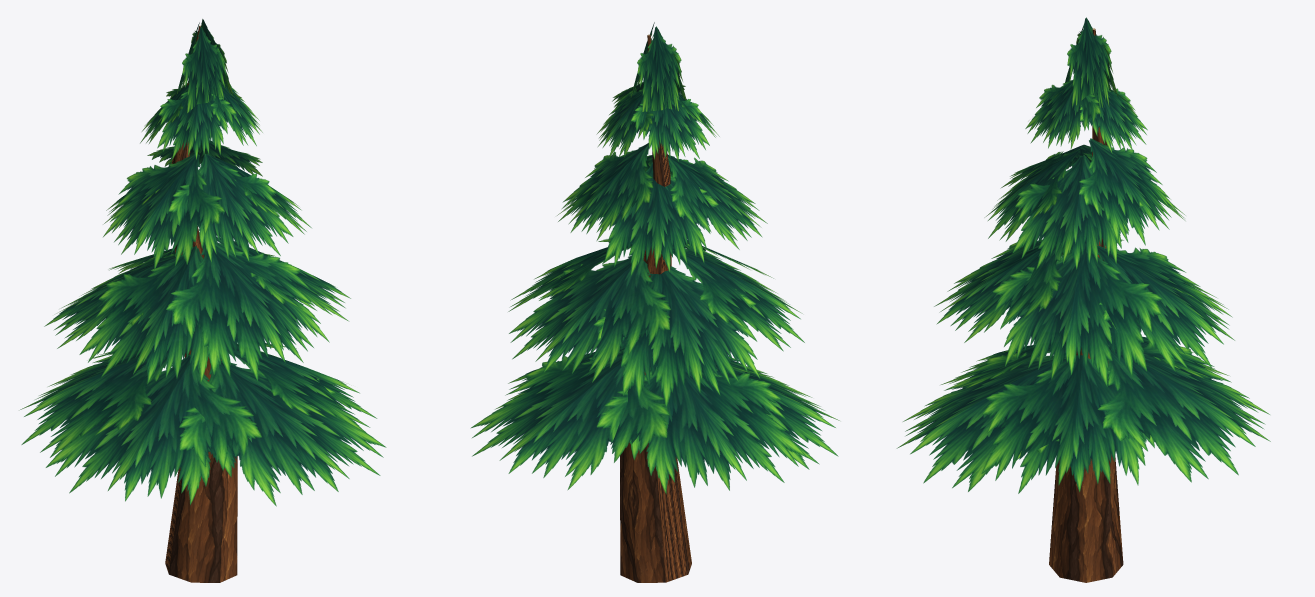
The model's file is source_4.glb.
3 renders of one model, left to right at view 1: azimuth 30°, elevation 25°; view 2: azimuth 150°, elevation 25°; view 3: azimuth 270°, elevation 25°, orthographic.
Visible parts, largest first — view 1: woodland-pine-sapling · evaluated preview mesh; view 2: woodland-pine-sapling · evaluated preview mesh; view 3: woodland-pine-sapling · evaluated preview mesh.
Part boxes in pixels (x1,y1,x2,y2): woodland-pine-sapling · evaluated preview mesh: [20, 19, 386, 582]; woodland-pine-sapling · evaluated preview mesh: [470, 22, 839, 582]; woodland-pine-sapling · evaluated preview mesh: [896, 17, 1270, 582].
Bounding box in the file's own units: 1.96 × 3.11 × 2.18.
Materials: 3 (2 with a texture image).
